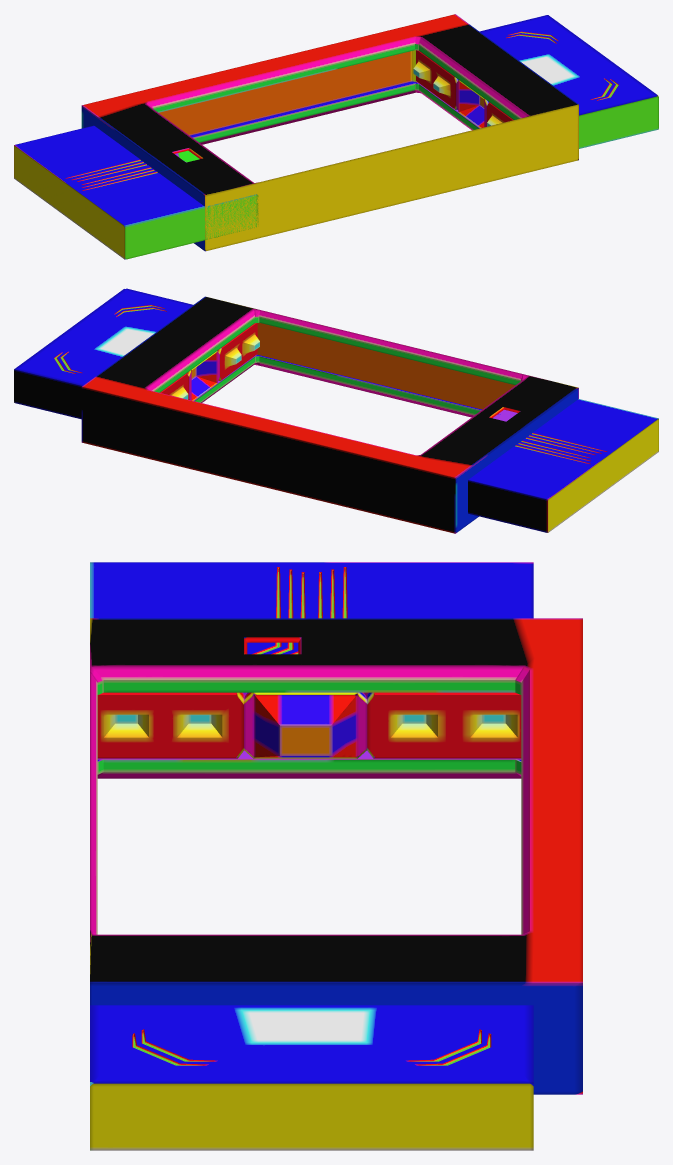
File: door0_1.dae
3 renders of one model, top to bottom at view 1: azimuth 30°, elevation 25°; view 2: azimuth 150°, elevation 25°; view 3: azimuth 270°, elevation 25°, orthographic. The views are drawn at different scales.
Parts seen in each view (by area): view 1: DoorFrame, DoorRight, DoorLeft, DoorCircleLeft; view 2: DoorFrame, DoorRight, DoorLeft, DoorCircleLeft; view 3: DoorFrame, DoorLeft, DoorRight, DoorCircleRight.
Boxes of the visible parts, x1,y1,x2,y2 form: DoorFrame: (81,14,578,251); DoorRight: (14,125,258,259); DoorLeft: (413,15,658,148); DoorCircleLeft: (456,80,488,127); DoorFrame: (81,296,578,533); DoorRight: (468,399,658,532); DoorLeft: (14,288,259,419); DoorCircleLeft: (187,351,219,400); DoorFrame: (90,618,582,1094); DoorLeft: (90,1005,533,1150); DoorRight: (90,562,533,758); DoorCircleRight: (244,692,367,758).
Bounding box in the file's own units: 10 × 4 × 1.
Materials: 1 (1 with a texture image).
